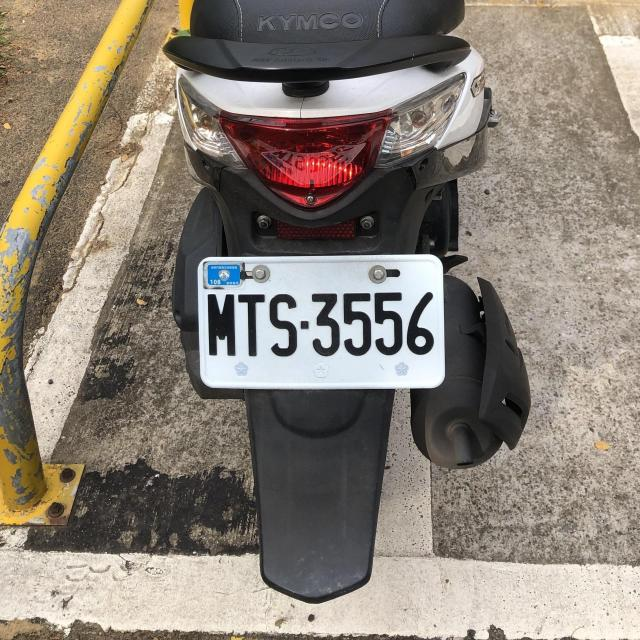W: (194, 254, 443, 391)
